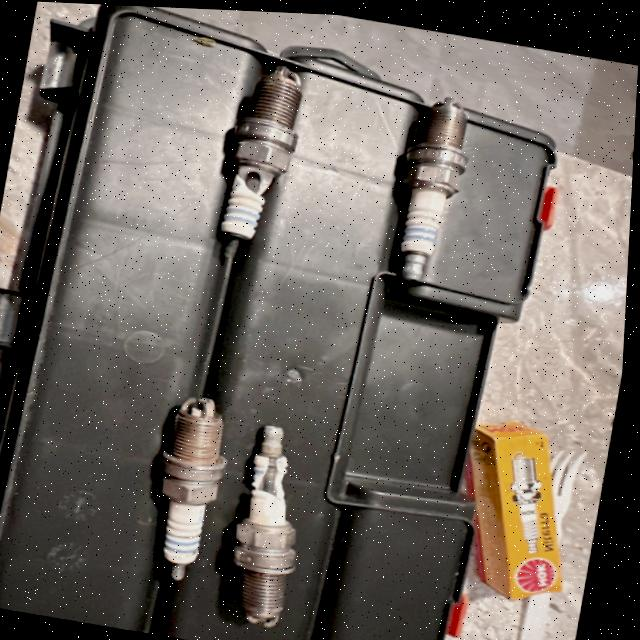damaged_spark-plug: (204, 50, 330, 274), (223, 416, 335, 638)
spark-plug: (134, 390, 249, 596), (392, 84, 484, 297)
